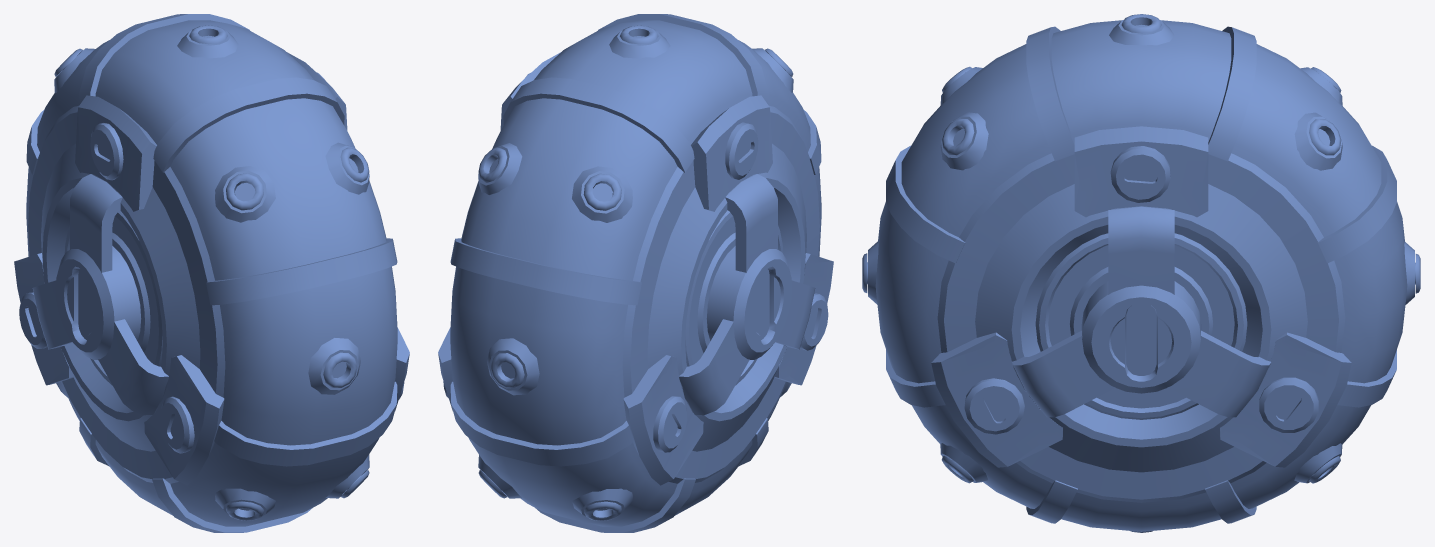
The model's file is obj_interactive_stickywheel.fbx.
The picture shows the model from 3 angles, left to right: view 1: azimuth 30°, elevation 25°; view 2: azimuth 150°, elevation 25°; view 3: azimuth 270°, elevation 25°; orthographic projection. The views are drawn at different scales.
Parts seen in each view (by area): view 1: obj_interactive_stickywheel; view 2: obj_interactive_stickywheel; view 3: obj_interactive_stickywheel.
Boxes of the visible parts, x1=… form: obj_interactive_stickywheel: x1=14, y1=14, x2=409, y2=532; obj_interactive_stickywheel: x1=438, y1=14, x2=833, y2=532; obj_interactive_stickywheel: x1=862, y1=14, x2=1420, y2=532.
Bounding box in the file's own units: 2.99 × 5.25 × 5.25.
